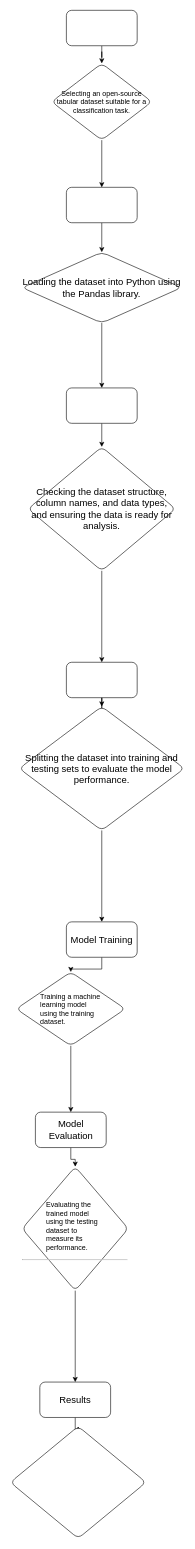
The diagram is 195 pixels wide and 1549 high, and some of its shapes have lost their labels. Each missing label, with the centre of its shape:
"Data Loading" goes at (x=101, y=205).
"Data Preprocessing" goes at (x=101, y=405).
"Dataset Selection" goes at (x=101, y=28).
"Presenting and analyzing the results obtained from the model evaluation." goes at (x=78, y=1482).
"Train / Test Split" goes at (x=101, y=680).
